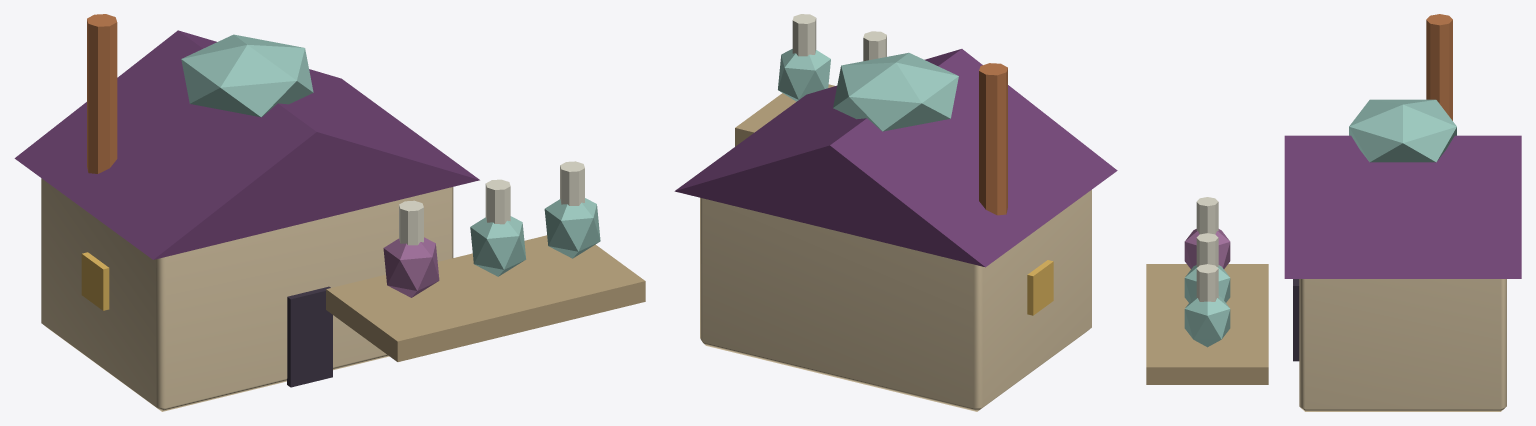
File: yeastLab.glb
3 views of the same model, side by side, from view 1: azimuth 30°, elevation 25°; view 2: azimuth 150°, elevation 25°; view 3: azimuth 270°, elevation 25° (orthographic). The views are drawn at different scales.
Parts seen in each view (by area): view 1: gable.006, Cube.046, Cube.049, Icosphere.083, Cone.166, Cube.047, Icosphere.080, Icosphere.081, Icosphere.082, Cube.048, Cone.164, Cone.163 (+1 smaller); view 2: Cube.046, gable.006, Icosphere.083, Cone.166, Icosphere.082, Cube.048, Cube.049, Cone.165, Cone.164; view 3: gable.006, Cube.046, Cube.049, Icosphere.083, Cone.166, Icosphere.082, Icosphere.080, Cone.165, Cone.163, Icosphere.081, Cone.164, Cube.047.
Part boxes in pixels (bbox=[...]): gable.006: bbox=[14, 30, 479, 259]; Cube.046: bbox=[41, 178, 453, 411]; Cube.049: bbox=[326, 235, 645, 361]; Icosphere.083: bbox=[181, 34, 313, 117]; Cone.166: bbox=[87, 14, 117, 173]; Cube.047: bbox=[287, 286, 332, 387]; Icosphere.080: bbox=[383, 237, 439, 297]; Icosphere.081: bbox=[470, 216, 526, 276]; Icosphere.082: bbox=[544, 198, 600, 258]; Cube.048: bbox=[81, 252, 109, 310]; Cone.164: bbox=[485, 179, 510, 224]; Cone.163: bbox=[399, 200, 423, 245]; Cube.046: bbox=[700, 190, 1091, 411]; gable.006: bbox=[674, 49, 1117, 267]; Icosphere.083: bbox=[833, 52, 958, 131]; Cone.166: bbox=[979, 63, 1007, 215]; Icosphere.082: bbox=[778, 49, 830, 101]; Cube.048: bbox=[1027, 260, 1053, 315]; Cube.049: bbox=[735, 84, 834, 146]; Cone.165: bbox=[792, 14, 816, 56]; Cone.164: bbox=[863, 31, 886, 61]; gable.006: bbox=[1284, 135, 1521, 278]; Cube.046: bbox=[1299, 279, 1506, 411]; Cube.049: bbox=[1146, 264, 1268, 384]; Icosphere.083: bbox=[1349, 99, 1456, 162]; Cone.166: bbox=[1426, 14, 1452, 120]; Icosphere.082: bbox=[1184, 296, 1230, 347]; Icosphere.080: bbox=[1184, 229, 1230, 268]; Cone.165: bbox=[1196, 264, 1218, 301]; Cone.163: bbox=[1196, 197, 1218, 234]; Icosphere.081: bbox=[1184, 265, 1230, 302]; Cone.164: bbox=[1196, 233, 1218, 267]; Cube.047: bbox=[1293, 279, 1299, 361].
Bounding box in the file's own units: 1.66 × 1.27 × 1.53.
